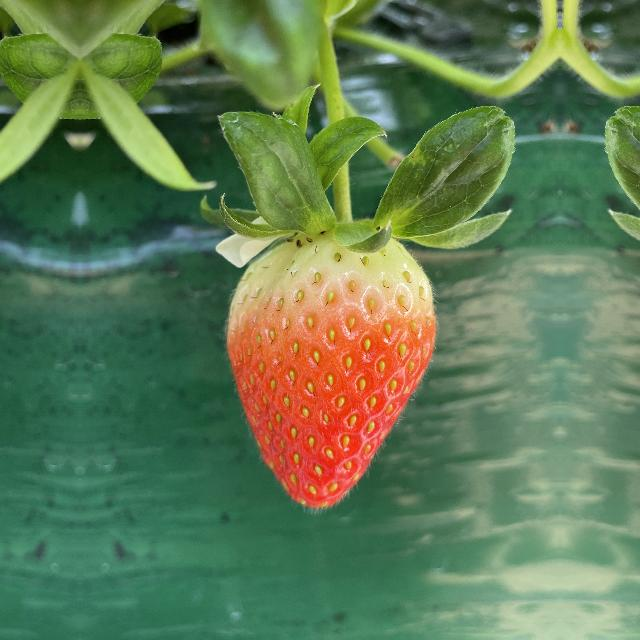Health_100: (223, 218, 437, 514)
